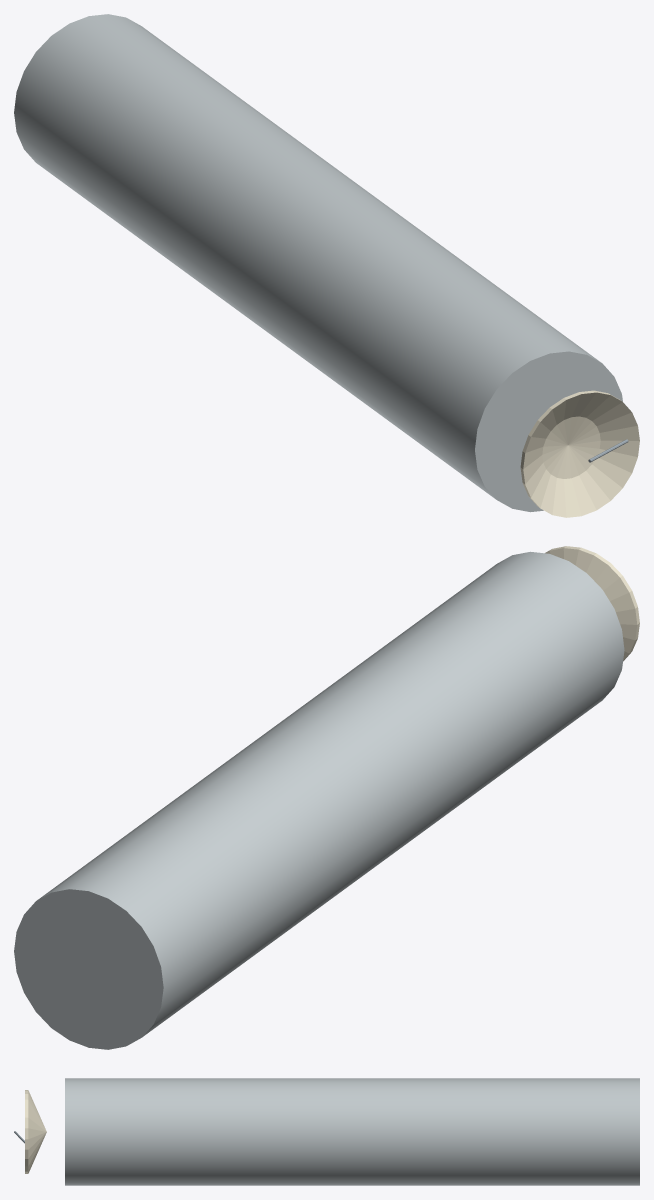
File: ref-rhyolite-4418.glb
The picture shows the model from 3 angles, top to bottom: view 1: azimuth 30°, elevation 25°; view 2: azimuth 150°, elevation 25°; view 3: azimuth 270°, elevation 25°; orthographic projection. The views are drawn at different scales.
Visible parts, largest first — view 1: Spacecraft body, Reflector dish; view 2: Spacecraft body, Reflector dish; view 3: Spacecraft body, Reflector dish.
Part boxes in pixels (x1,y1,x2,y2): Spacecraft body: (14, 14, 622, 512); Reflector dish: (520, 390, 639, 517); Spacecraft body: (14, 551, 624, 1049); Reflector dish: (545, 546, 639, 661); Spacecraft body: (65, 1078, 639, 1185); Reflector dish: (25, 1090, 46, 1173).
Size of the model in its own units: 1.5 by 1.5 by 8.71.
